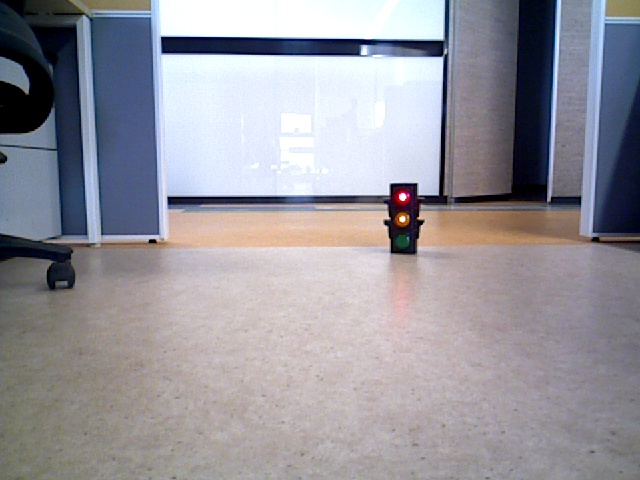red: (391, 184, 418, 248)
